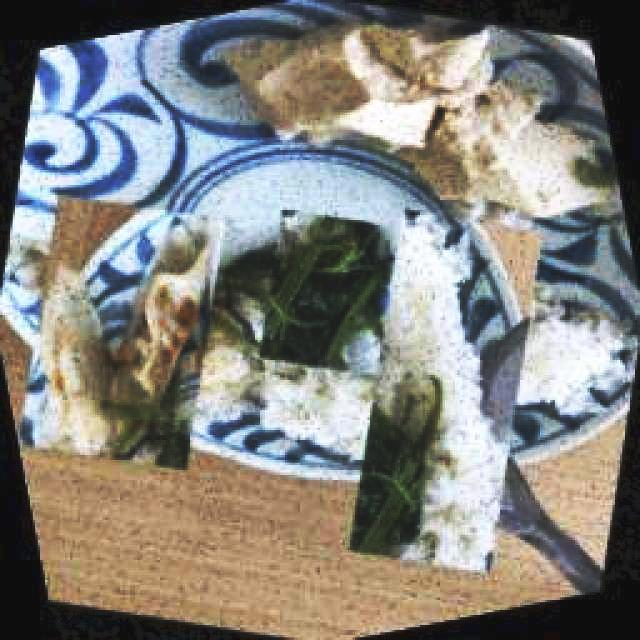fried_dumplings: (112, 212, 207, 404), (44, 272, 117, 455)
rice: (393, 242, 468, 381), (270, 370, 363, 447)
water_spinach: (221, 211, 394, 370)
